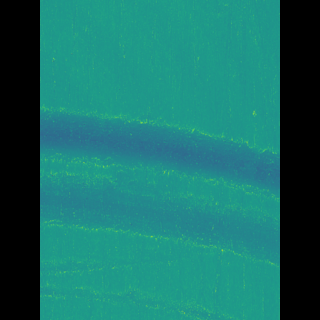Loch: (70, 104, 249, 267), (69, 276, 210, 320)
